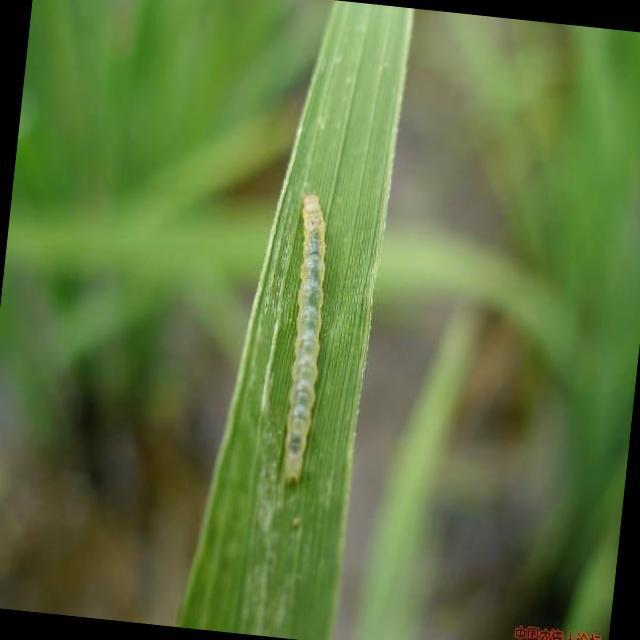leaf folder: (283, 194, 325, 483)
